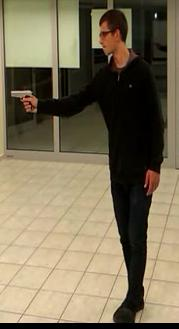pistol: (10, 89, 36, 114)
